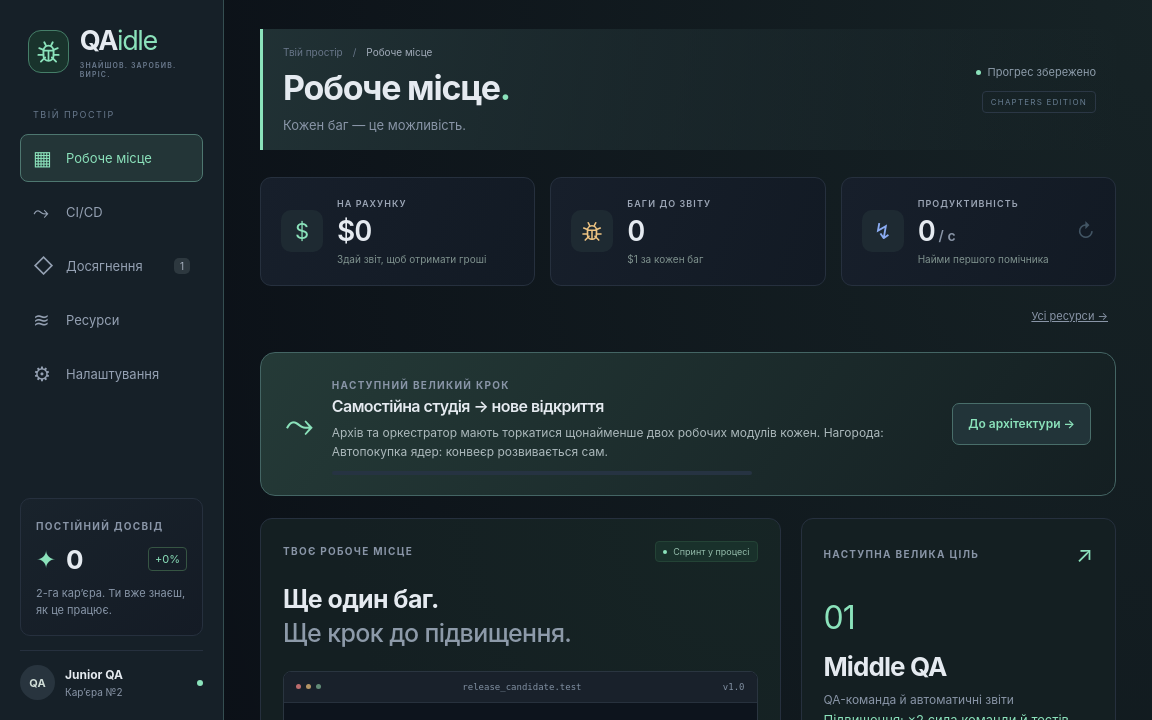
Test: delegates core allocation and preserves live production on the pipeline board
What coordinates should you click on to do the following:
click the button "⤳ CI/CD"
I would click on:
 (112, 212)
Its box is [20,188,203,236].
(page scrolled)
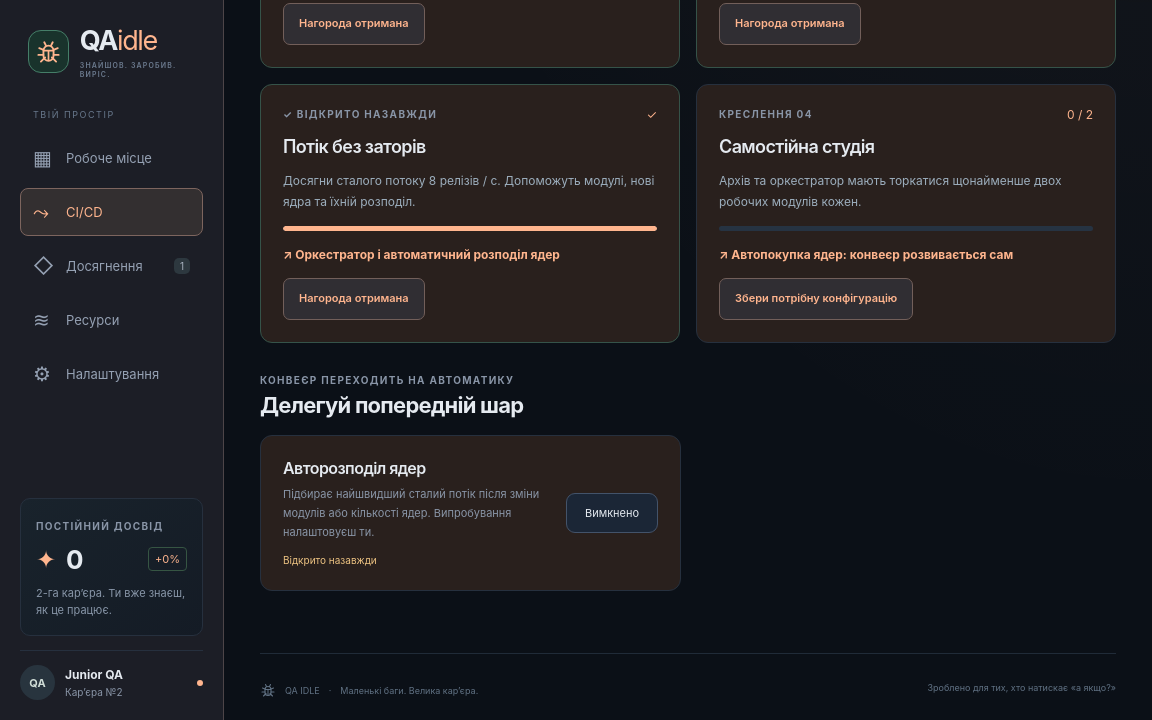
What coordinates should you click on to do the following:
click the switch named "Авторозподіл ядер"
I would click on:
 (612, 513)
Its box is [566,493,658,533].
(page scrolled)
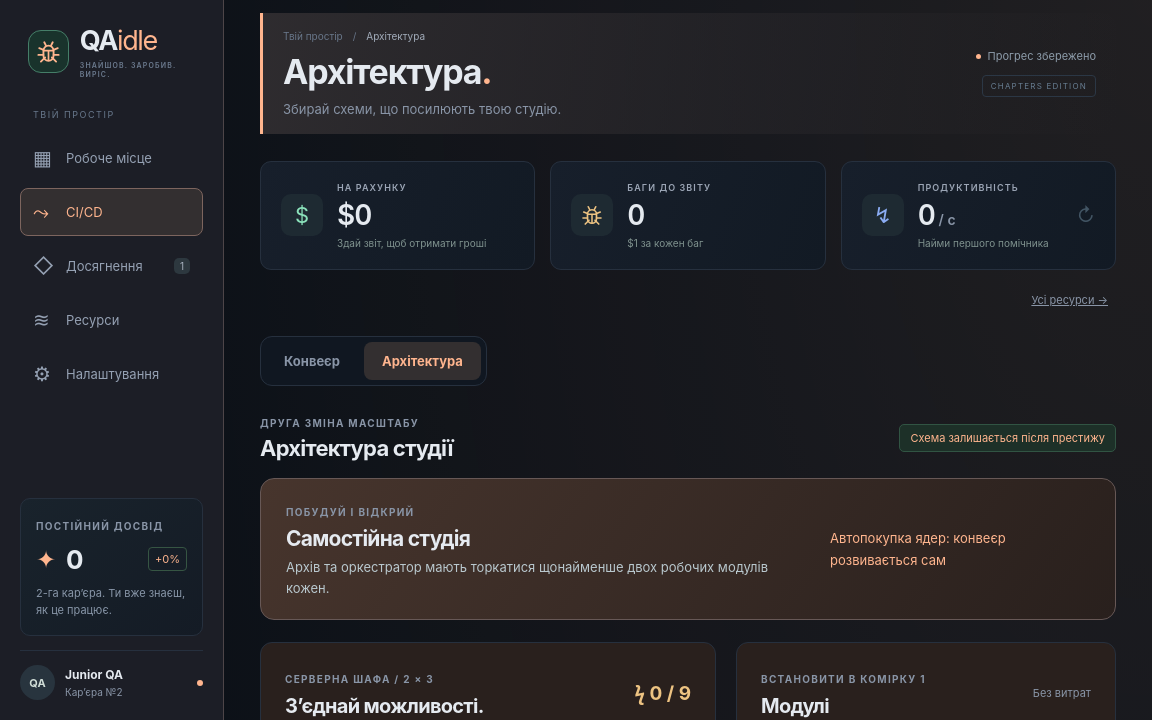
What coordinates should you click on to do the following:
click the button "Конвеєр"
I would click on:
 (312, 361)
Its box is [266,342,358,380].
(page scrolled)
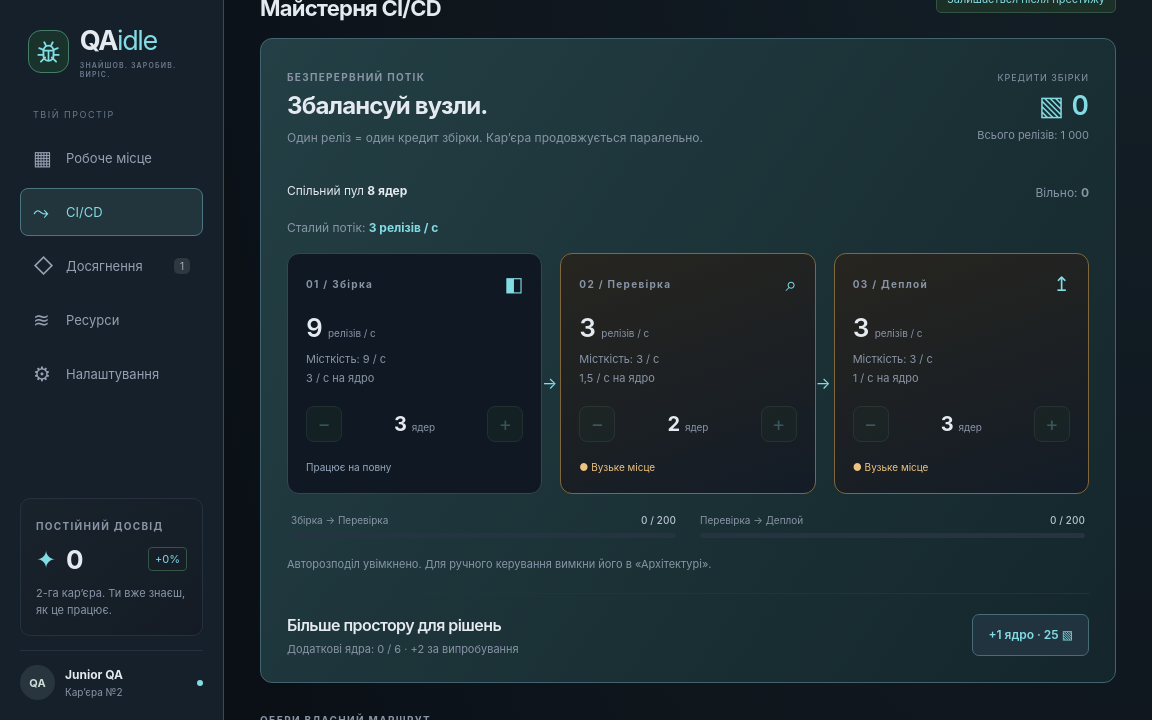
Expected: the button named "Конвеєр: Збірка — забрати ядро" is disabled, [306,406,342,442]
Expected: the element named "Основний конвеєр" shows "Авторозподіл увімкнено", [287,556,712,570]
